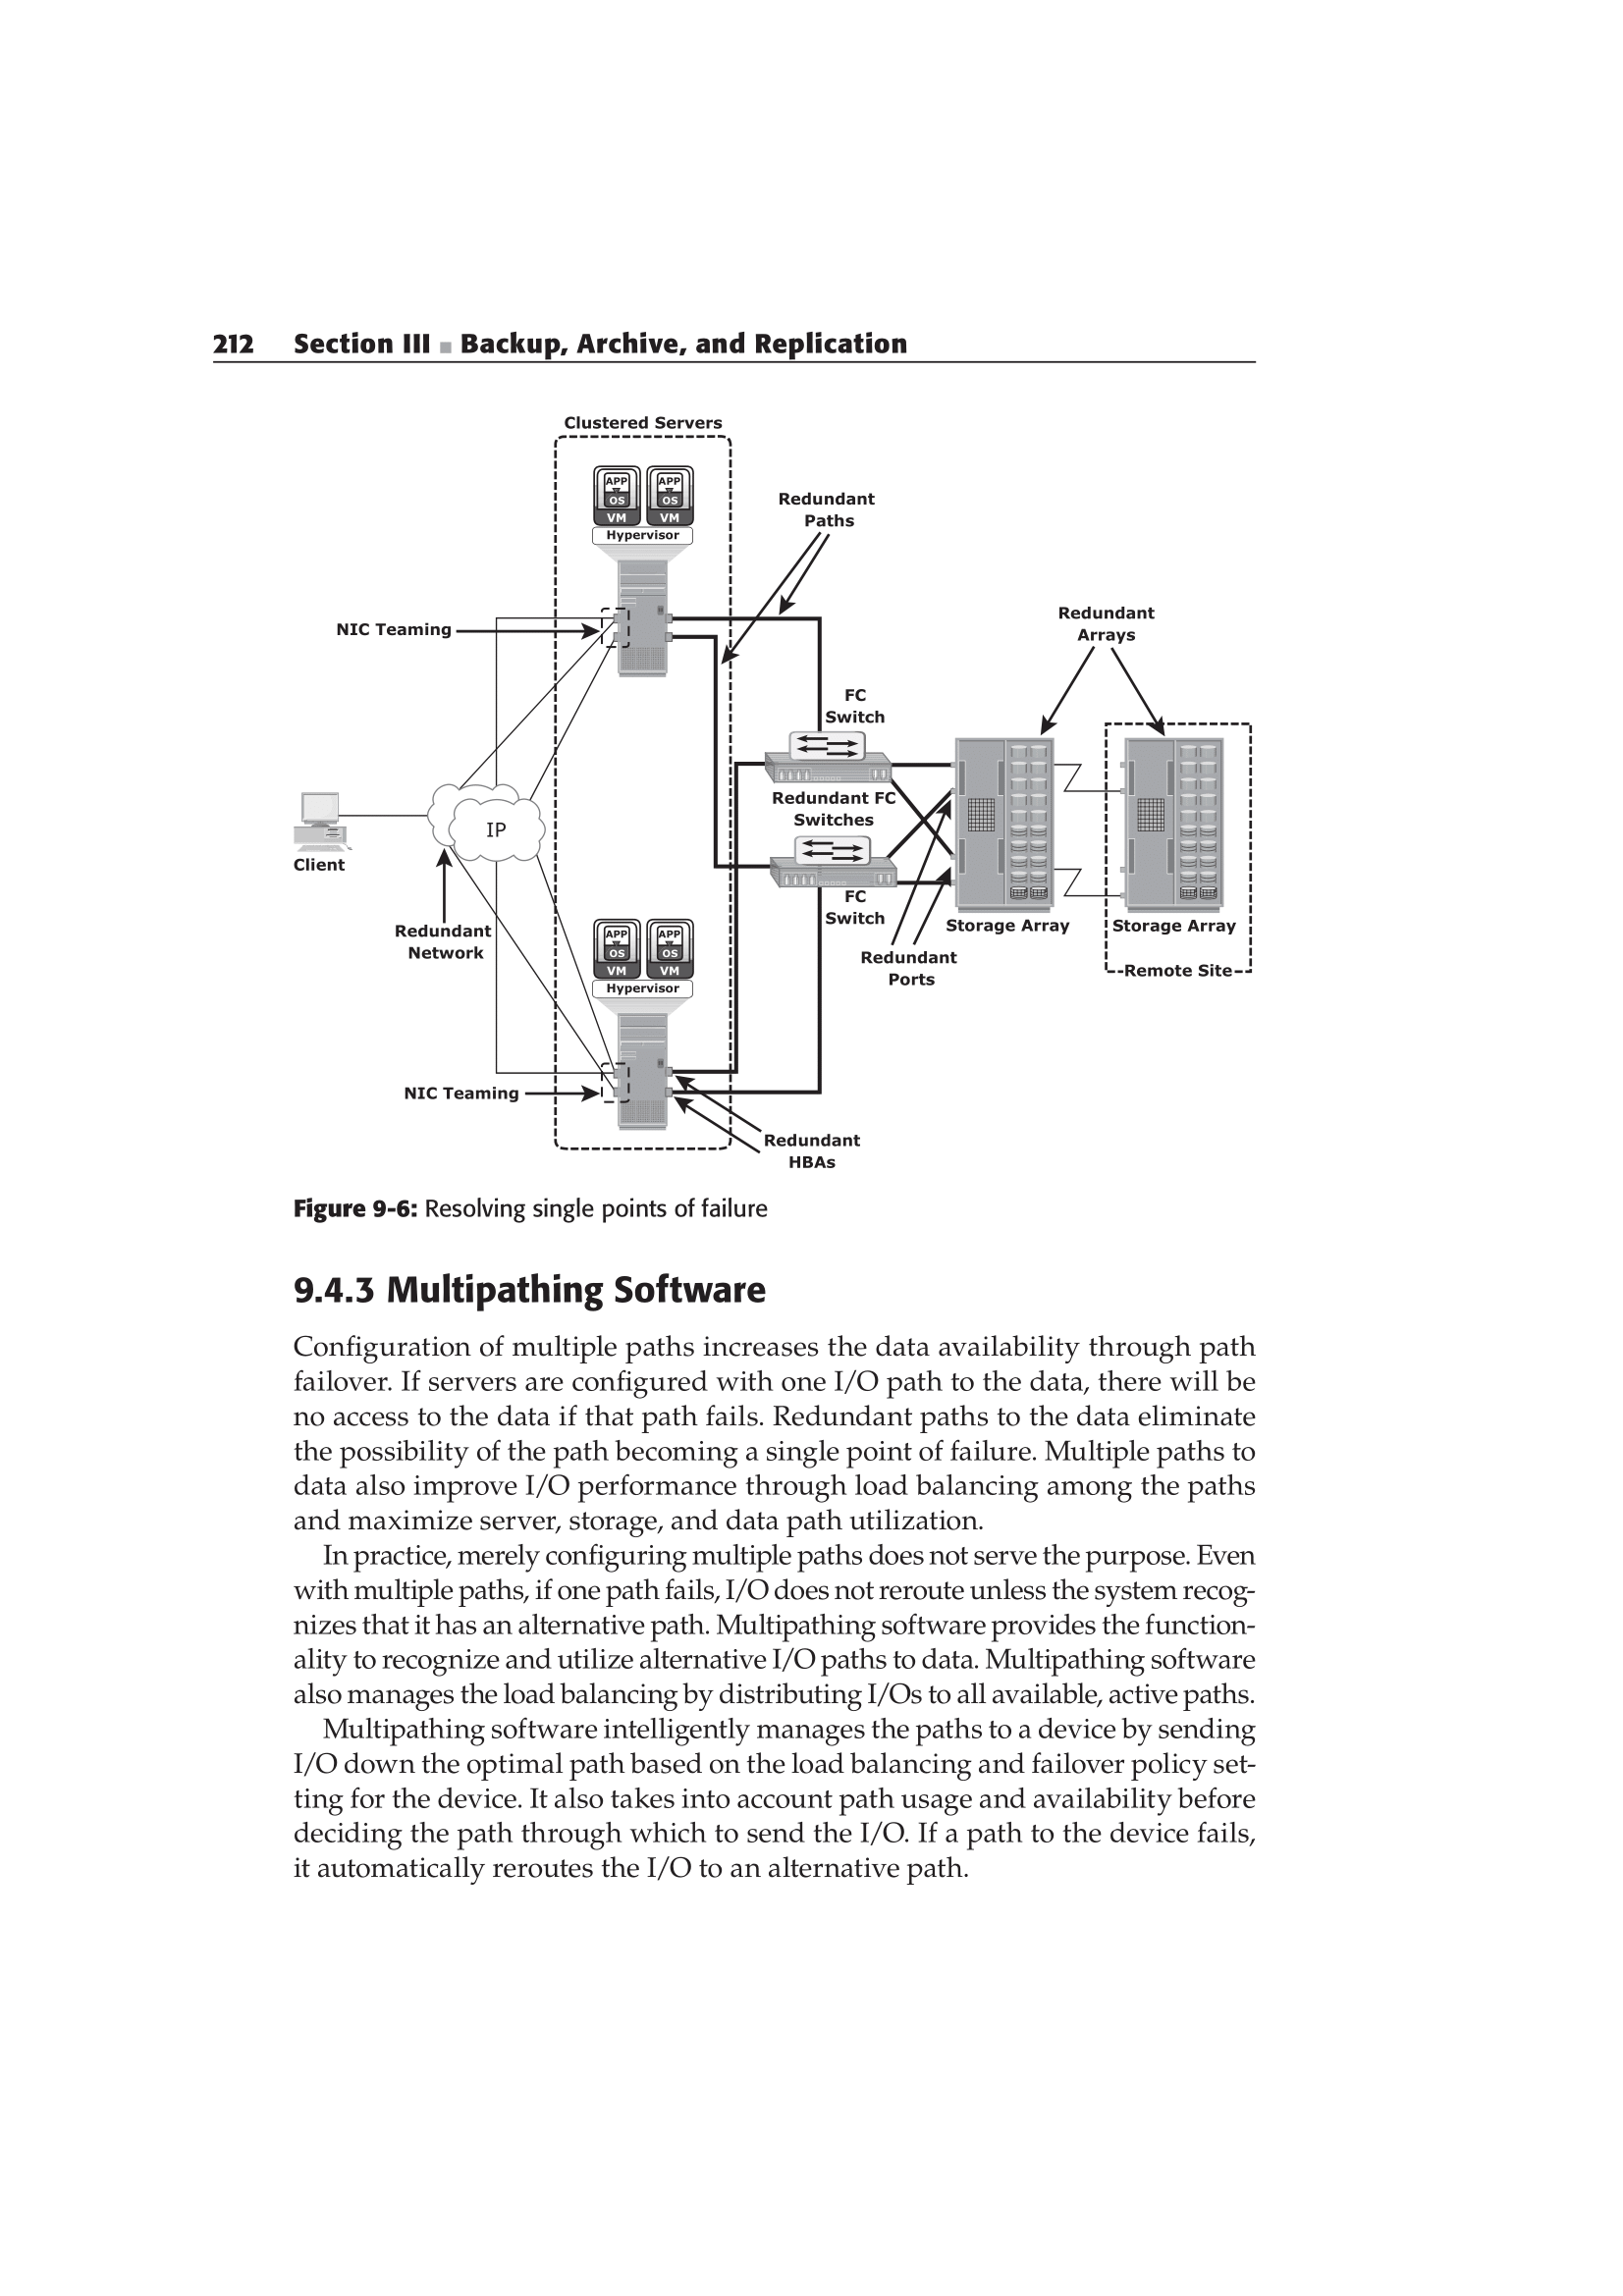Image: (214, 405, 1270, 1238)
Paragraph: (283, 1320, 1265, 1534), (283, 1538, 1270, 1711), (279, 1711, 1265, 1880), (188, 283, 922, 379), (274, 1246, 799, 1309)
